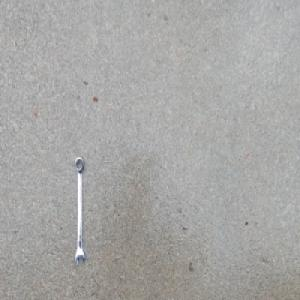Wrench: (73, 155, 85, 267)
